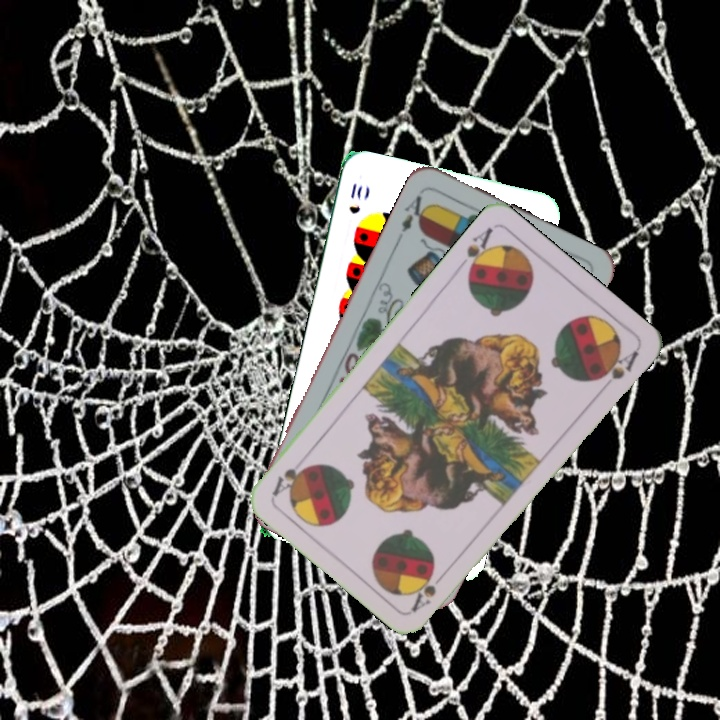EA: (394, 191, 432, 243)
S10: (345, 179, 365, 217)
SA: (407, 565, 451, 614), (462, 223, 497, 280)
